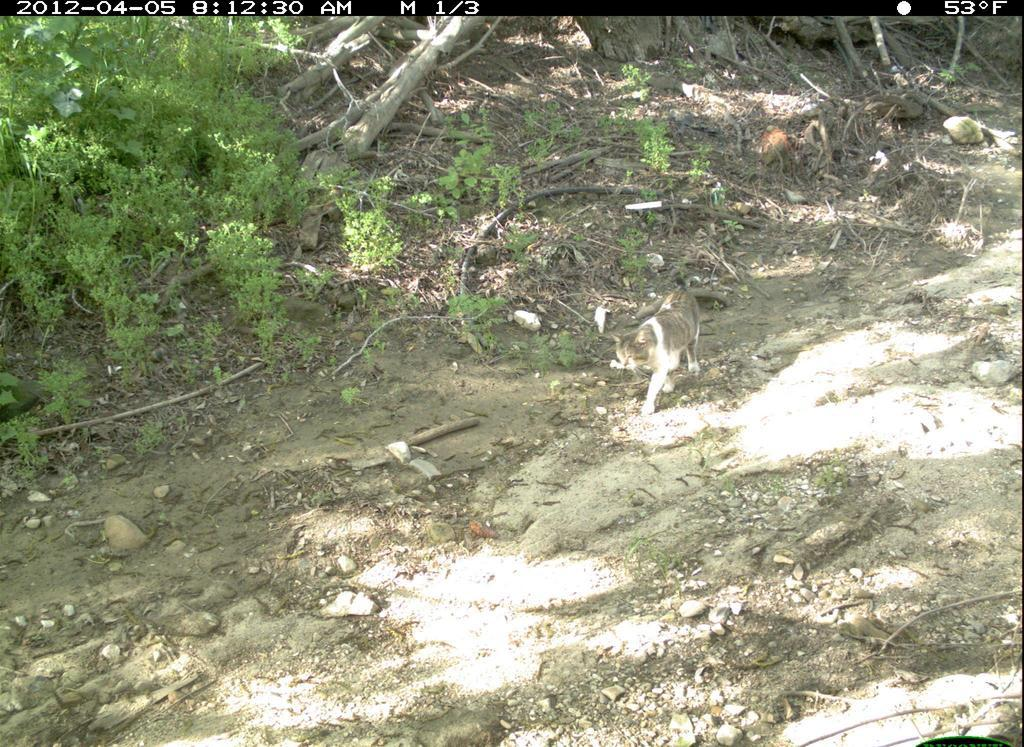cat: (600, 278, 713, 429)
